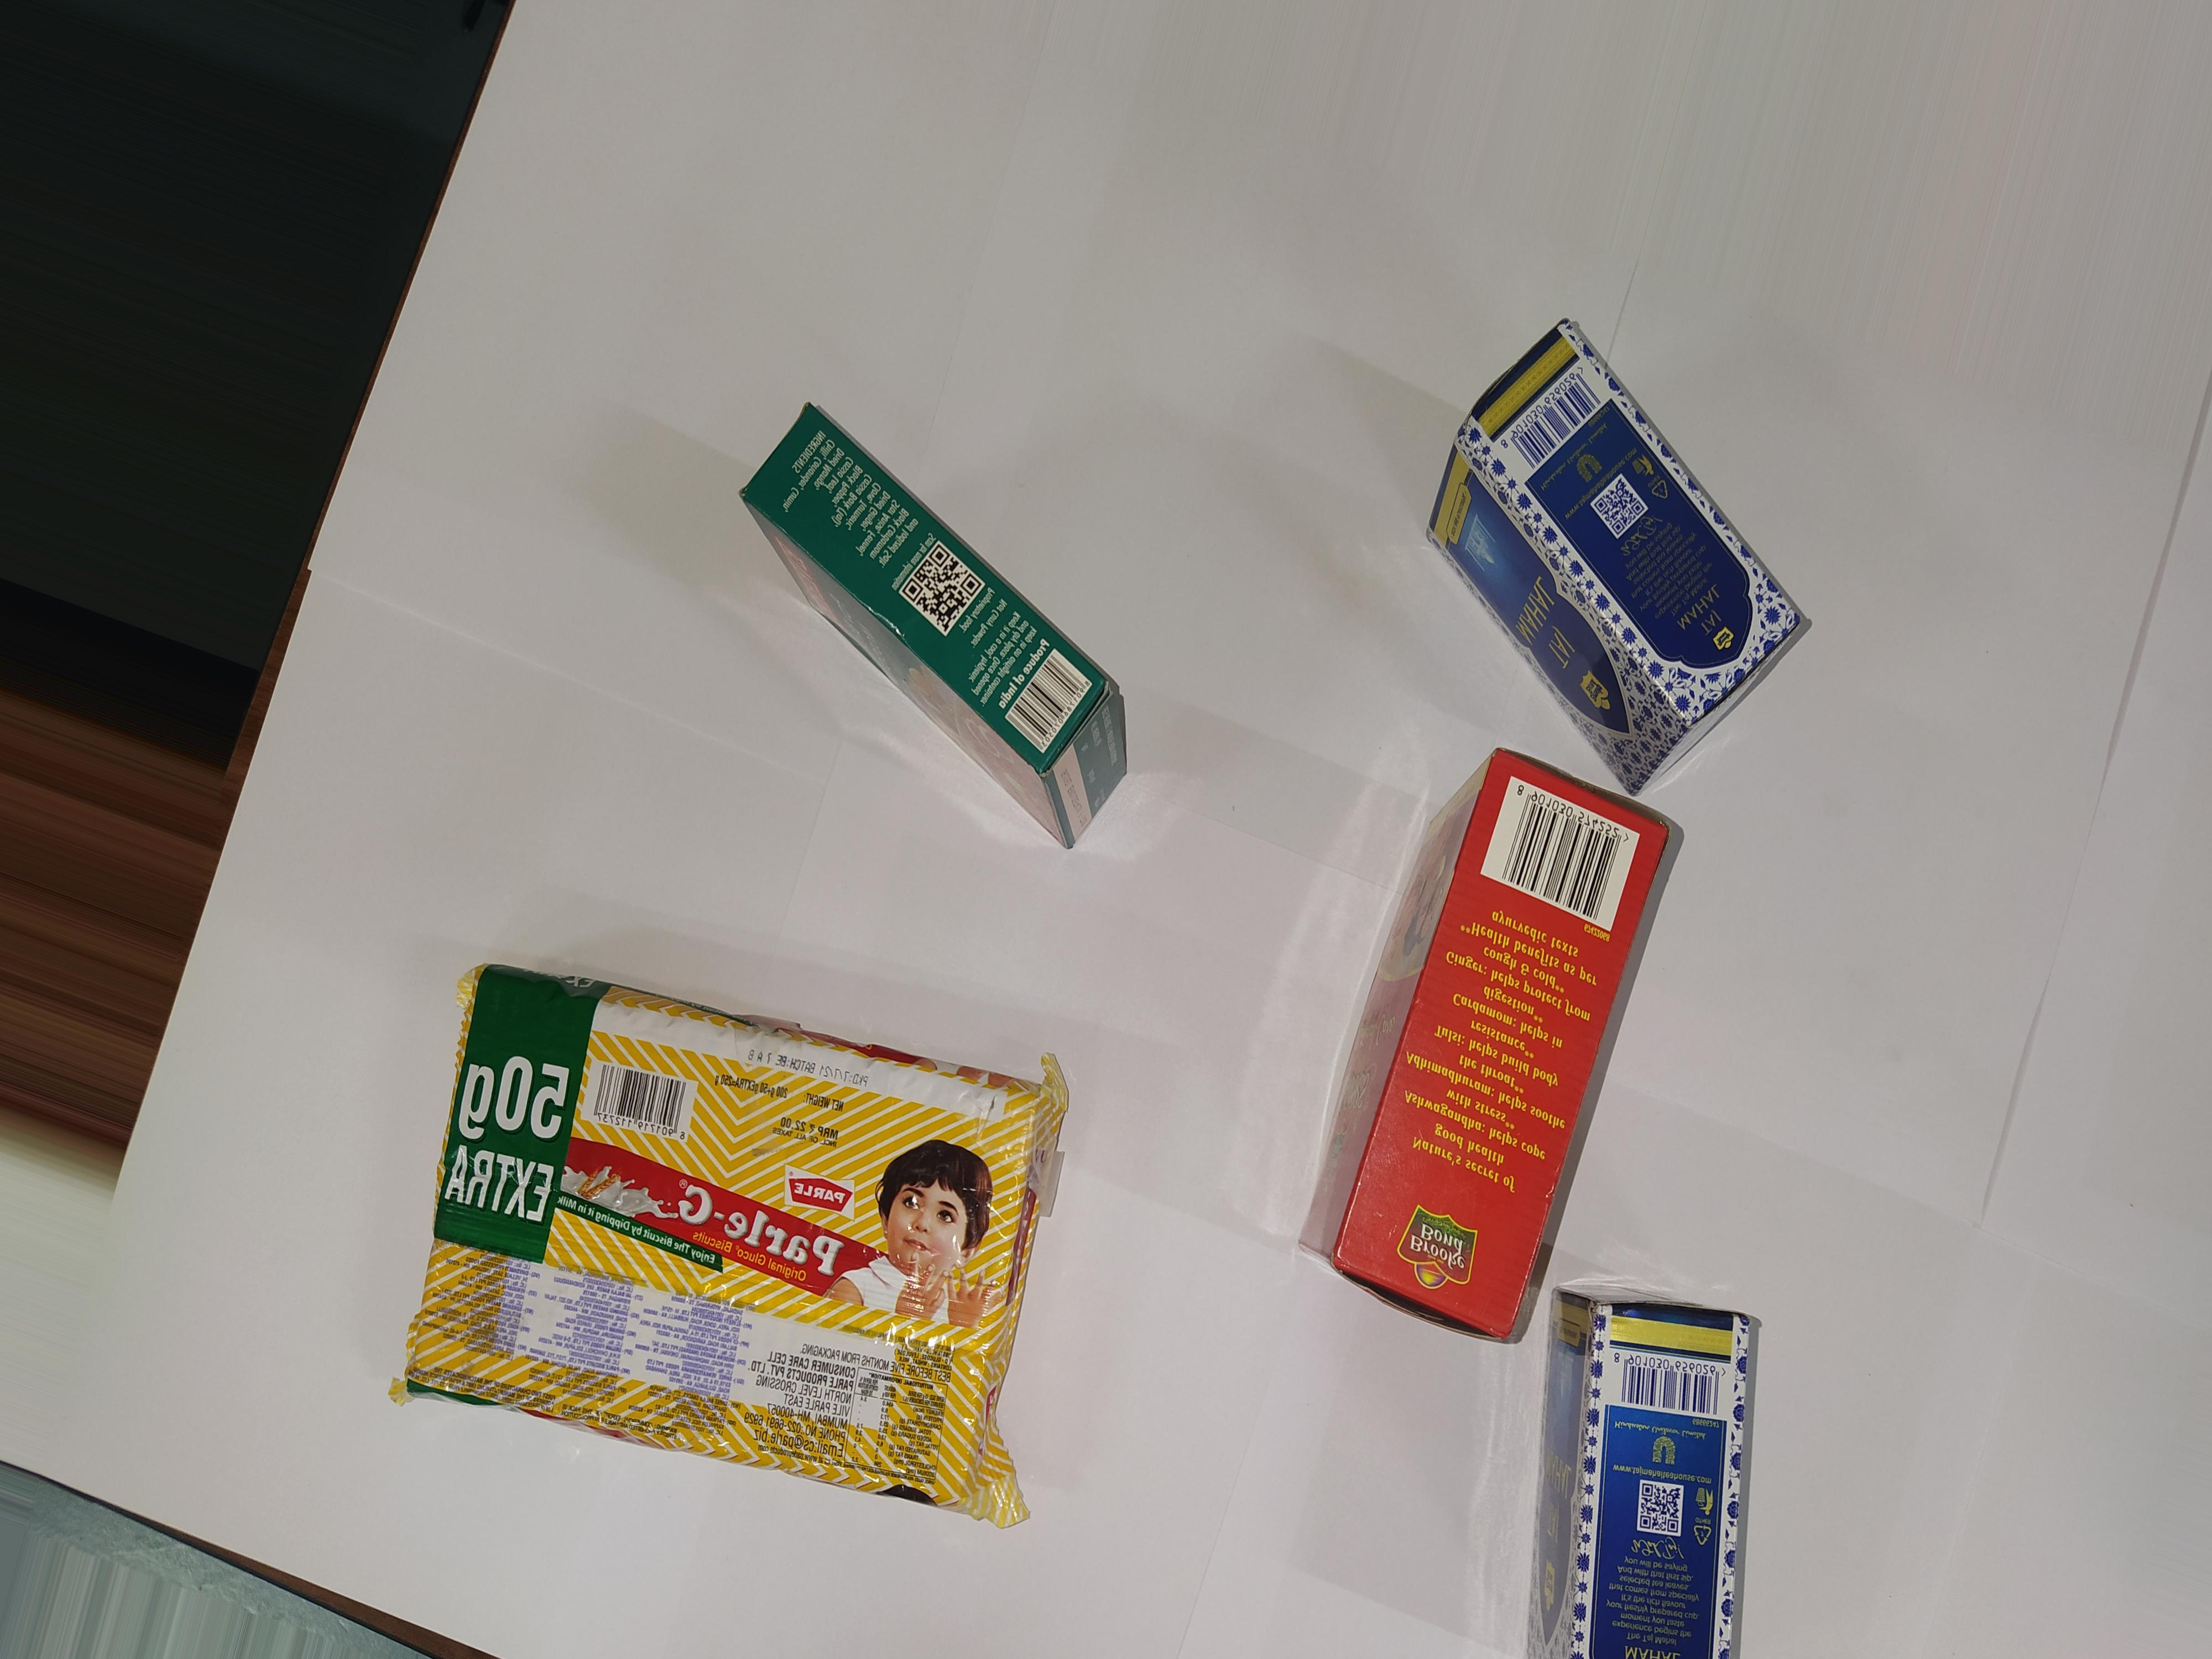Bar_code: (1447, 755, 1669, 941), (1475, 359, 1606, 477), (1597, 1330, 1743, 1429), (998, 641, 1104, 762), (570, 1056, 707, 1148)
Item: (397, 925, 1148, 1532), (1390, 289, 1855, 819), (721, 378, 1181, 896), (1317, 737, 1639, 1351), (1503, 1269, 1815, 1659)
QR_code: (900, 549, 991, 629), (1587, 479, 1660, 535), (1630, 1476, 1695, 1539)
